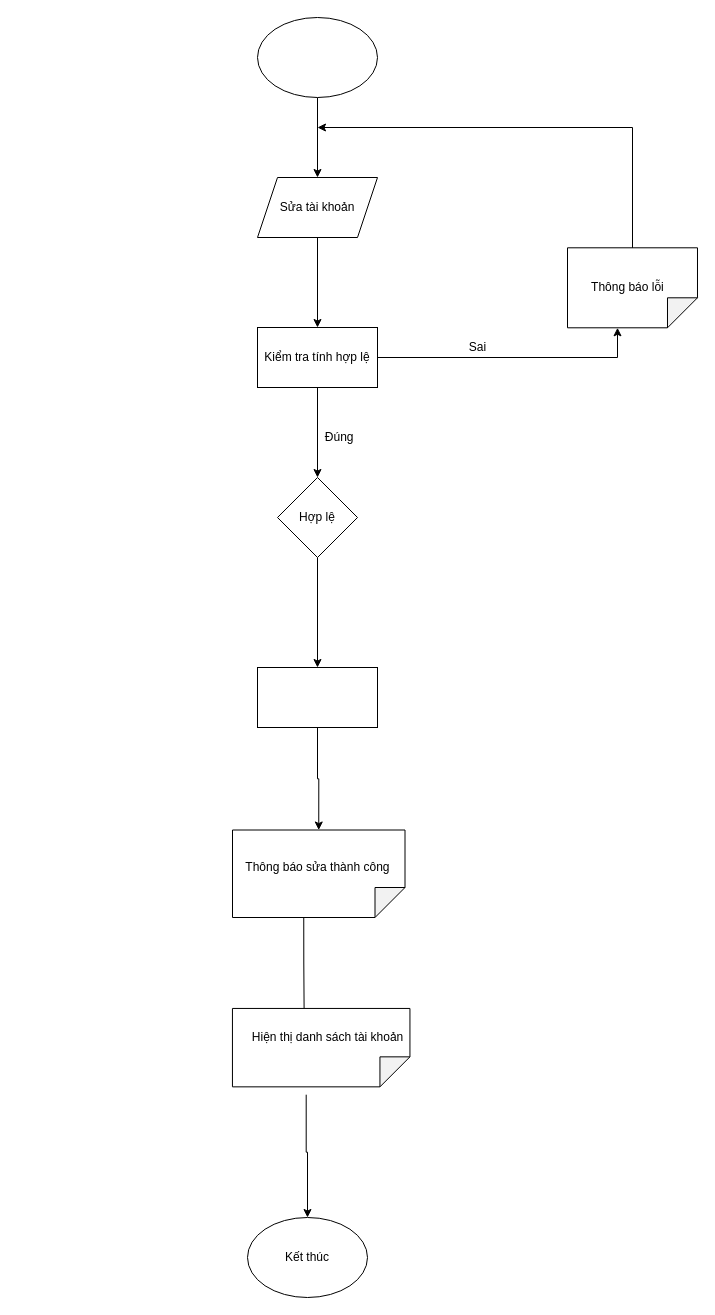
This 715x1315 diagram has some shape labels left out. The centre of each missing label's shape, as x and y in pixels:
Bắt đầu: the point at 317,57
cập nhập dữ liệu vào database: the point at 317,697
